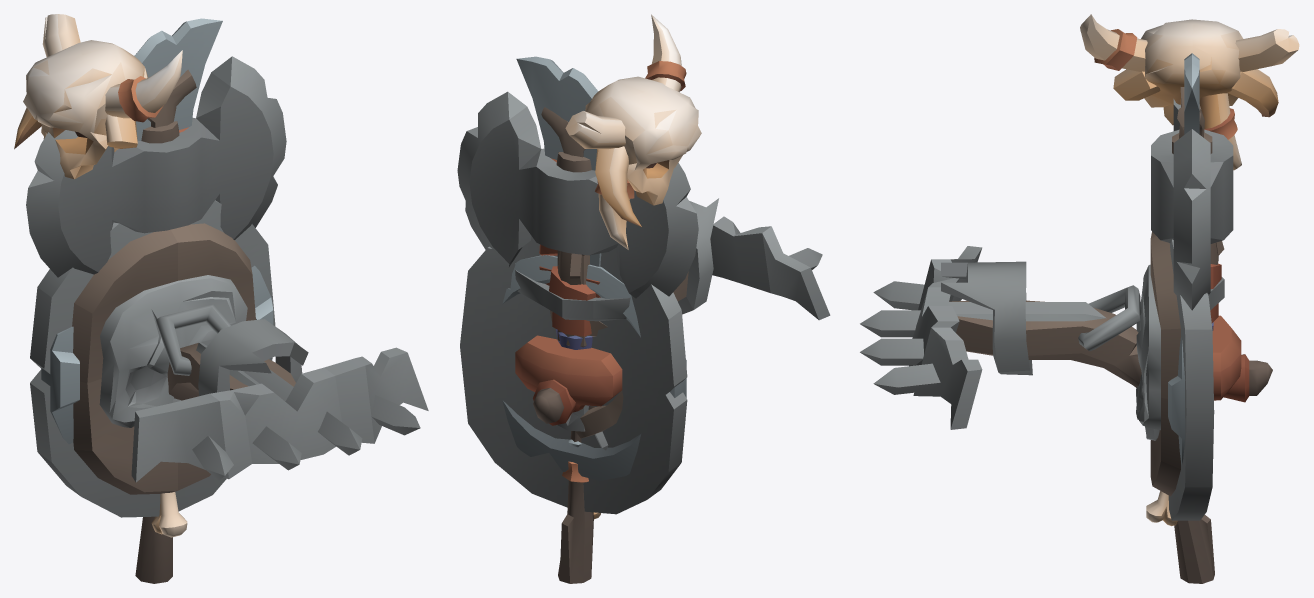
Rendered from skel_weapons.glb.
3 views of the same model, side by side, from view 1: azimuth 30°, elevation 25°; view 2: azimuth 150°, elevation 25°; view 3: azimuth 270°, elevation 25° (orthographic). The views are drawn at different scales.
Visible parts, largest first — view 1: Skeleton_Shield_Large_A, Skeleton_Crossbow, Skeleton_Axe, Skeleton_Staff, Skeleton_Blade, Skeleton_Shield_Small_A; view 2: Skeleton_Shield_Large_A, Skeleton_Axe, Skeleton_Staff, Skeleton_Crossbow, Skeleton_Blade, Skeleton_Shield_Small_A; view 3: Skeleton_Crossbow, Skeleton_Staff, Skeleton_Shield_Large_A, Skeleton_Axe, Skeleton_Blade, Skeleton_Shield_Small_A.
Part boxes in pixels (<box>): Skeleton_Shield_Large_A: <box>30,200,275,517</box>; Skeleton_Crossbow: <box>131,304,428,482</box>; Skeleton_Axe: <box>26,56,286,277</box>; Skeleton_Staff: <box>14,14,196,583</box>; Skeleton_Blade: <box>134,18,222,140</box>; Skeleton_Shield_Small_A: <box>41,265,273,444</box>; Skeleton_Shield_Large_A: <box>460,236,687,514</box>; Skeleton_Axe: <box>457,91,698,431</box>; Skeleton_Staff: <box>541,14,701,583</box>; Skeleton_Crossbow: <box>533,198,830,425</box>; Skeleton_Blade: <box>515,56,630,450</box>; Skeleton_Shield_Small_A: <box>502,255,686,480</box>; Skeleton_Crossbow: <box>860,246,1272,429</box>; Skeleton_Staff: <box>1080,14,1299,583</box>; Skeleton_Shield_Large_A: <box>1136,231,1241,520</box>; Skeleton_Axe: <box>1151,99,1233,330</box>; Skeleton_Blade: <box>1184,53,1224,310</box>; Skeleton_Shield_Small_A: <box>1168,337,1185,464</box>.
Size of the model in its own units: 1.11 by 2.1 by 1.51.
Materials: 1 (1 with a texture image).
